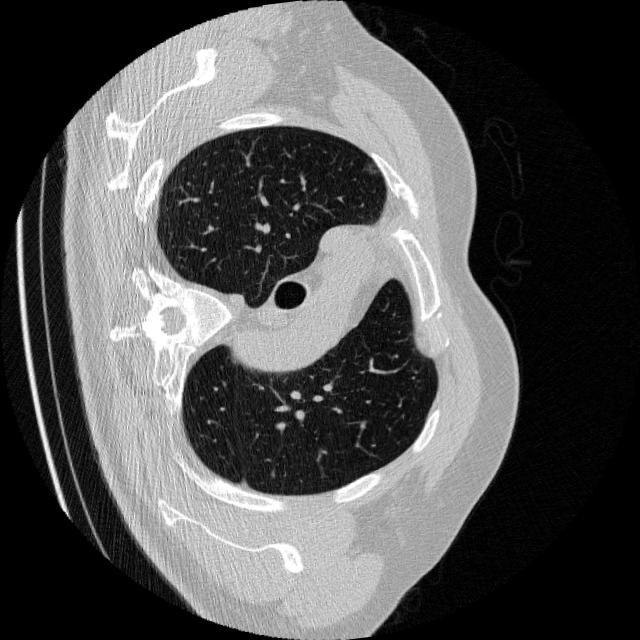nodule: (354, 150, 390, 186)
